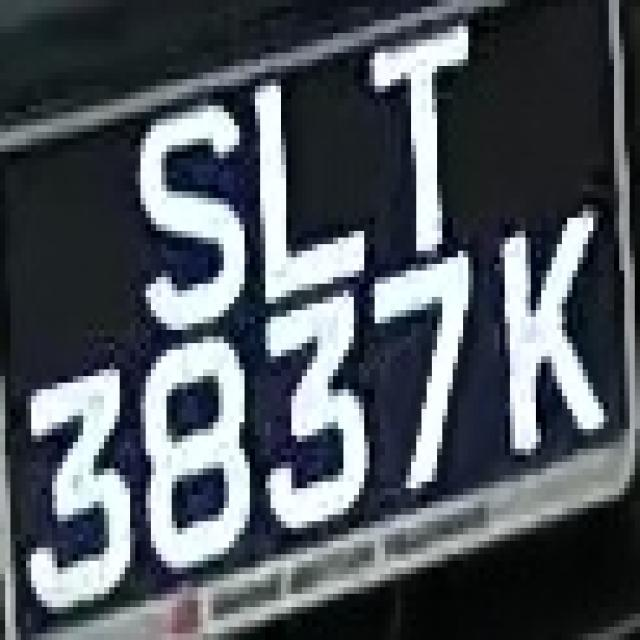3: (10, 363, 136, 620), (265, 290, 375, 522)
7: (364, 211, 474, 528)
8: (130, 324, 271, 600)
K: (489, 192, 624, 468)
L: (250, 52, 380, 316)
S: (125, 92, 260, 336)
T: (344, 20, 489, 270)
